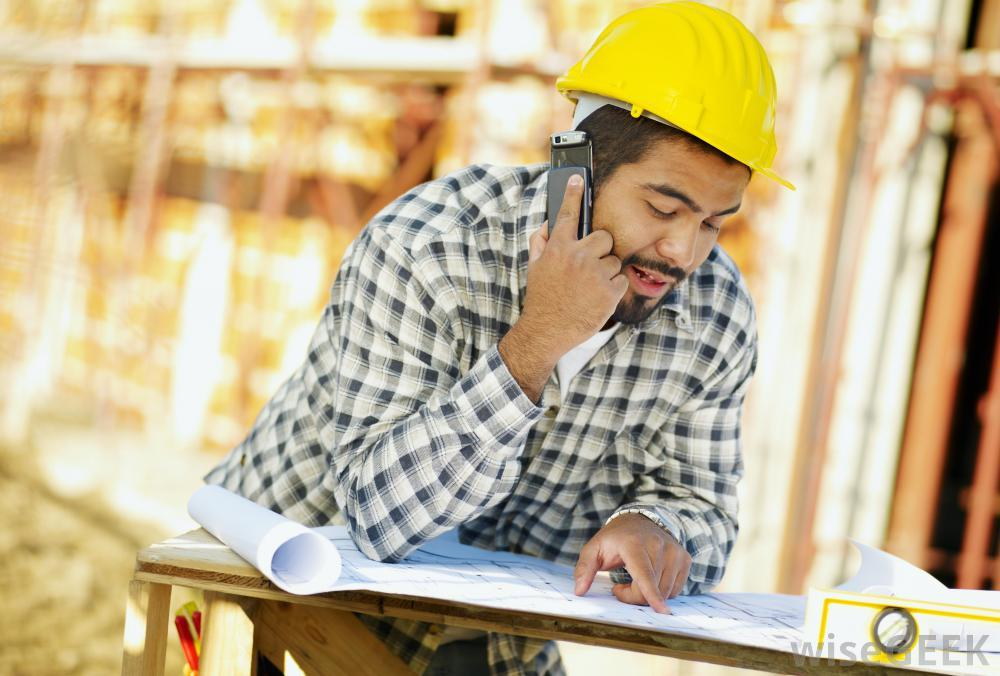helmet: (553, 1, 798, 188)
